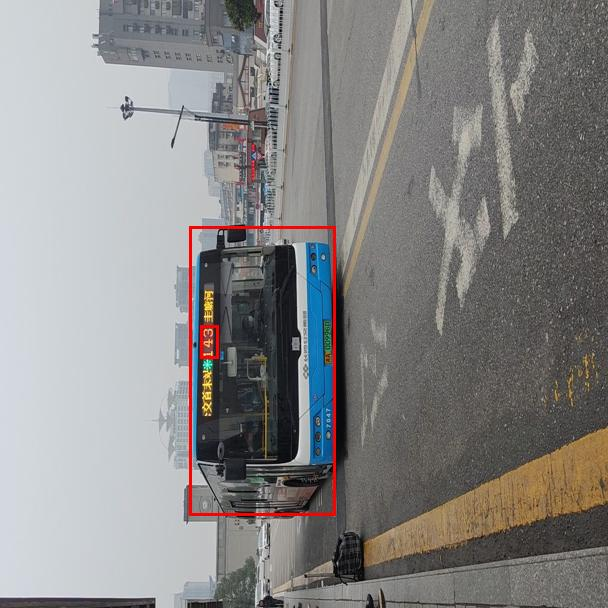bus: (189, 226, 335, 515)
screen: (200, 325, 218, 358)
